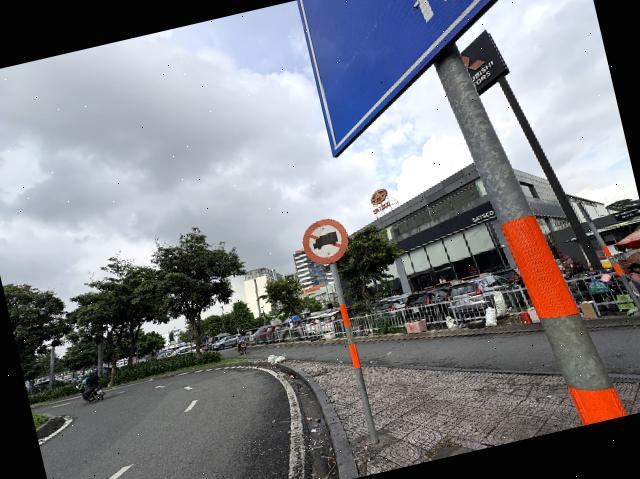cam-xe-tai: (298, 214, 352, 268)
